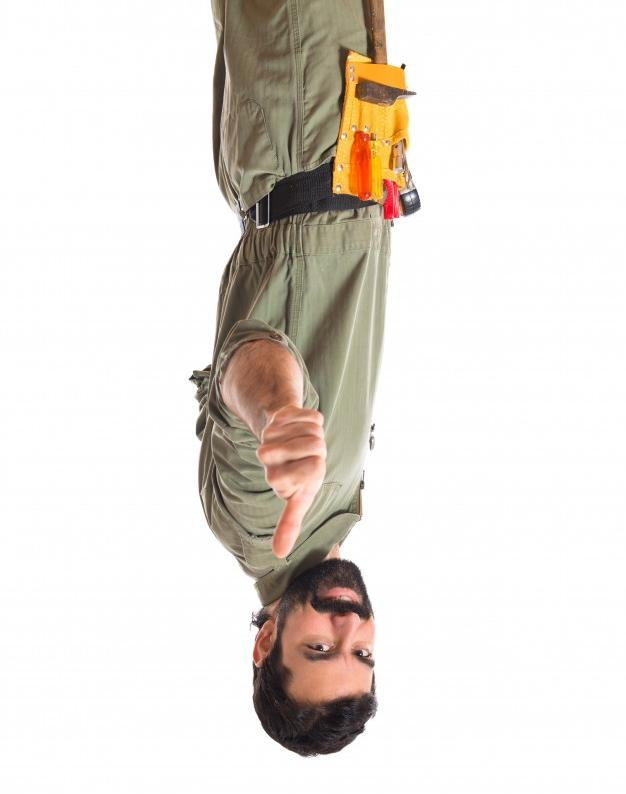thumbsdown: (256, 406, 326, 558)
